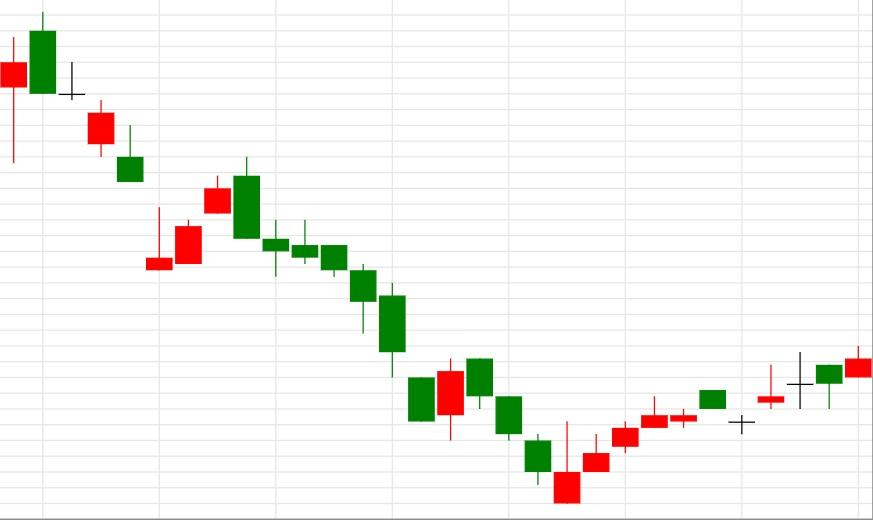bearish_engulfing_fall: (145, 156, 261, 271)
three_black_crows_fall: (408, 358, 552, 486)
three_white_soldiers_rise: (466, 358, 640, 504)
